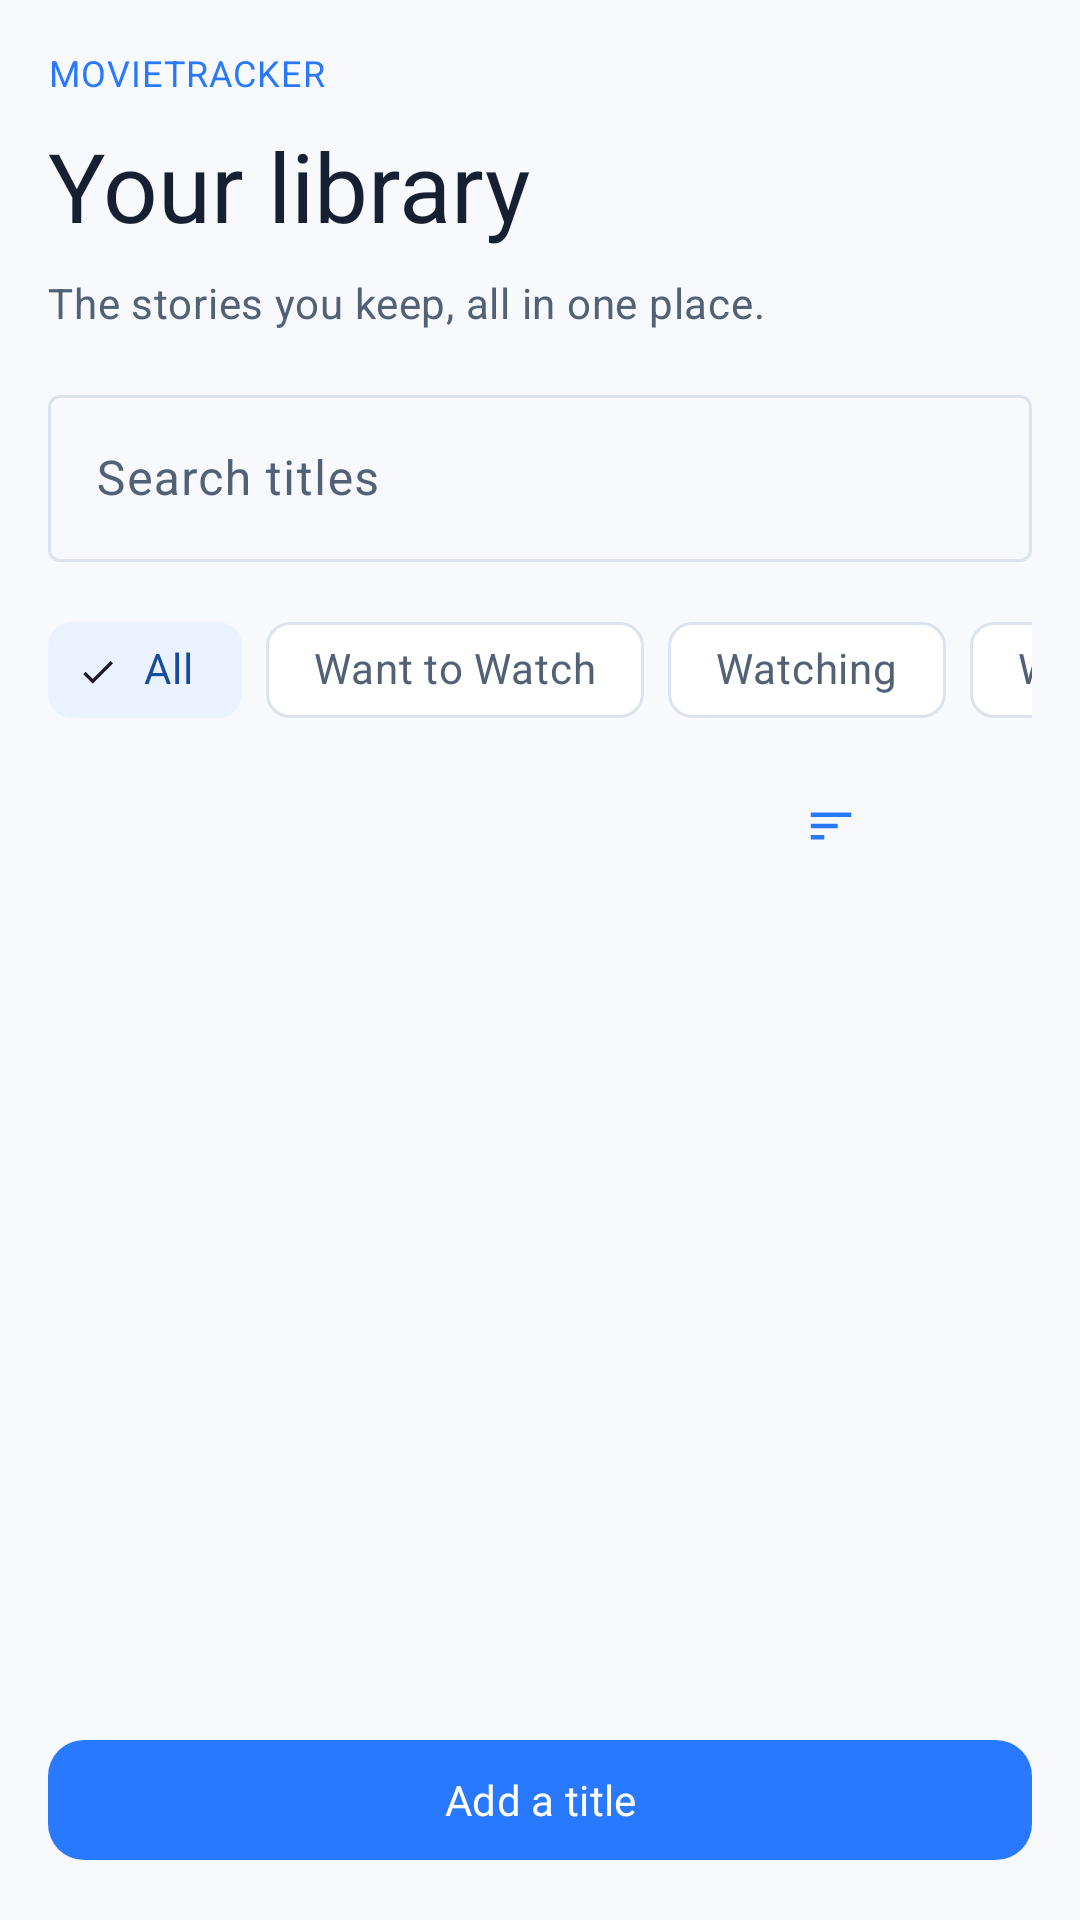

Icons on this 1080 × 1920 Android screen, each with the point to tap as [x,y]:
sort: [831,826]
